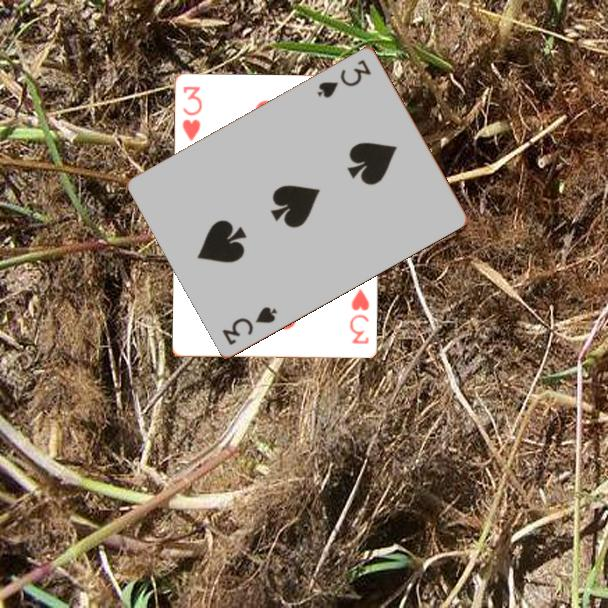h03: (346, 285, 372, 347), (179, 83, 205, 145)
s03: (218, 303, 280, 348), (313, 56, 374, 101)
